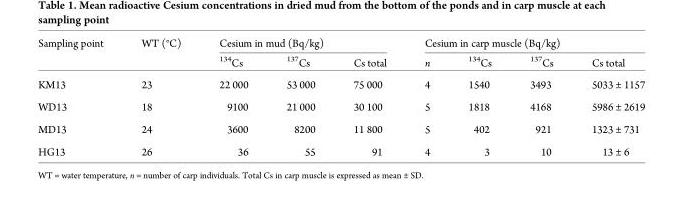table: (37, 36, 644, 157)
table column: (37, 36, 121, 157), (121, 36, 199, 157), (571, 36, 644, 157), (333, 36, 404, 157), (199, 36, 266, 157), (266, 36, 333, 157), (448, 36, 510, 157), (510, 36, 571, 157), (404, 36, 448, 157)
table column header: (37, 36, 644, 73)
table row: (37, 117, 644, 140), (37, 51, 644, 73), (37, 73, 644, 95), (37, 95, 644, 117), (37, 140, 644, 157), (37, 36, 644, 51)
table spanning cell: (404, 36, 644, 51), (37, 36, 121, 73), (199, 36, 404, 51), (121, 36, 199, 73)
